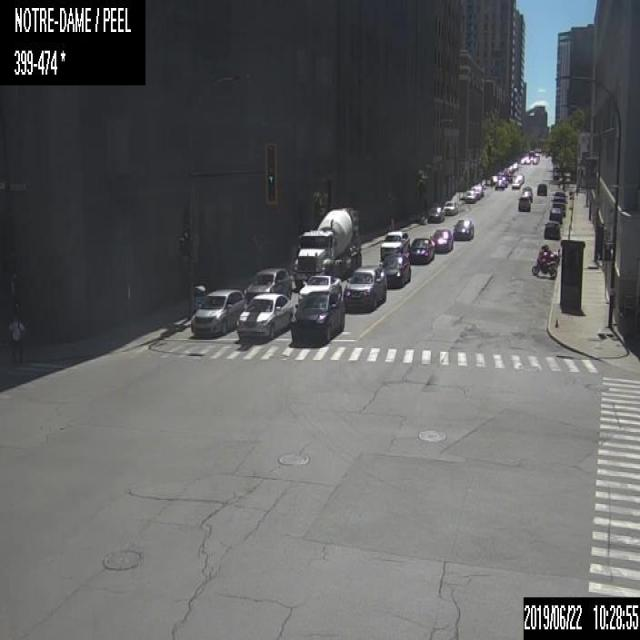pedestrian: (7, 314, 25, 362)
vehicle: (293, 206, 362, 288), (291, 290, 344, 344), (235, 291, 293, 339), (190, 288, 244, 336), (342, 264, 386, 310), (244, 266, 291, 304), (298, 273, 341, 301), (378, 253, 411, 289), (380, 230, 409, 258), (408, 237, 434, 263), (429, 228, 453, 252), (532, 257, 556, 278), (452, 218, 473, 240), (537, 244, 559, 264), (543, 220, 560, 238), (550, 195, 565, 215), (428, 206, 443, 222), (442, 200, 457, 215), (548, 206, 562, 222), (518, 195, 530, 211), (521, 184, 532, 200), (471, 184, 482, 200), (552, 190, 565, 201), (536, 182, 546, 195), (465, 189, 475, 202), (494, 179, 504, 190), (499, 174, 507, 186), (511, 178, 520, 188), (516, 173, 524, 182)
